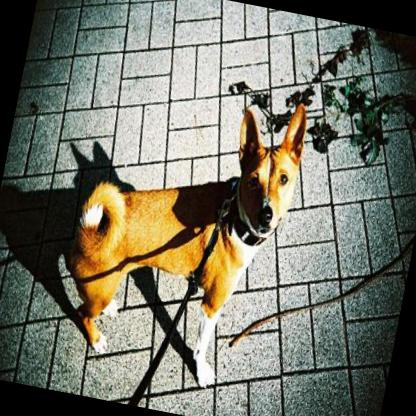basenji: (46, 60, 314, 398)
